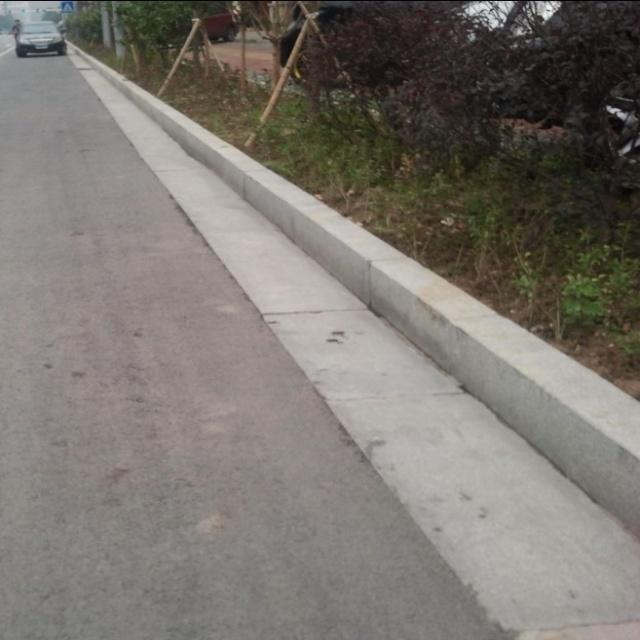curb: (88, 56, 639, 534)
